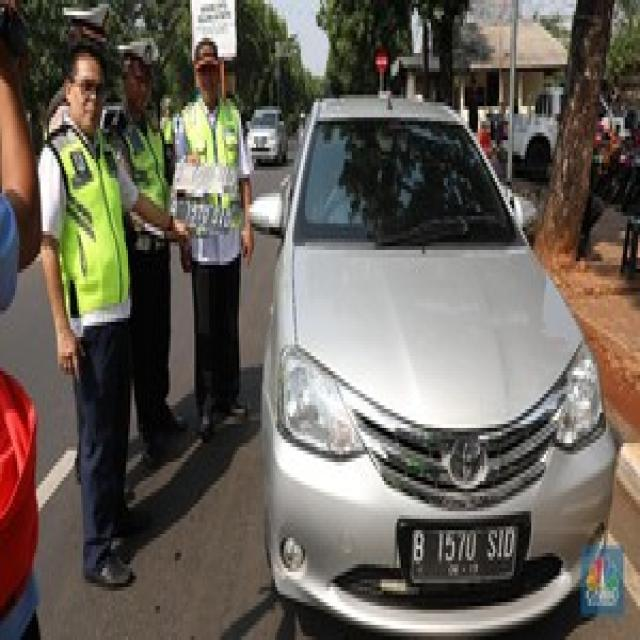license-plat: (404, 513, 530, 589)
